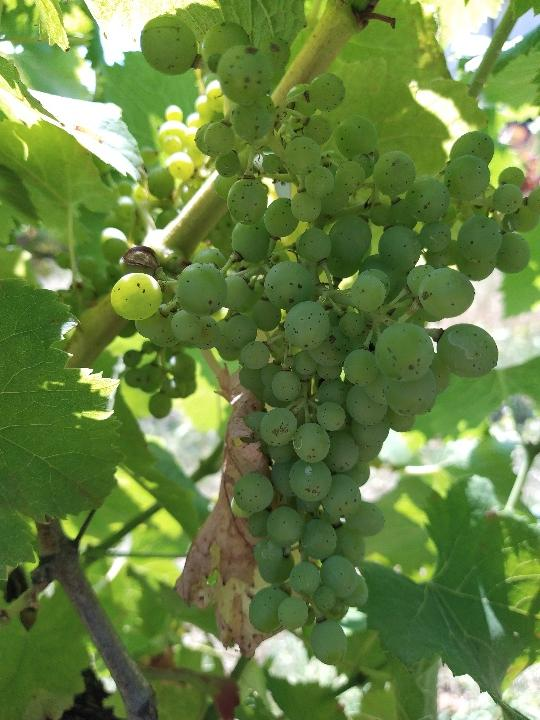grape: (108, 13, 534, 667)
